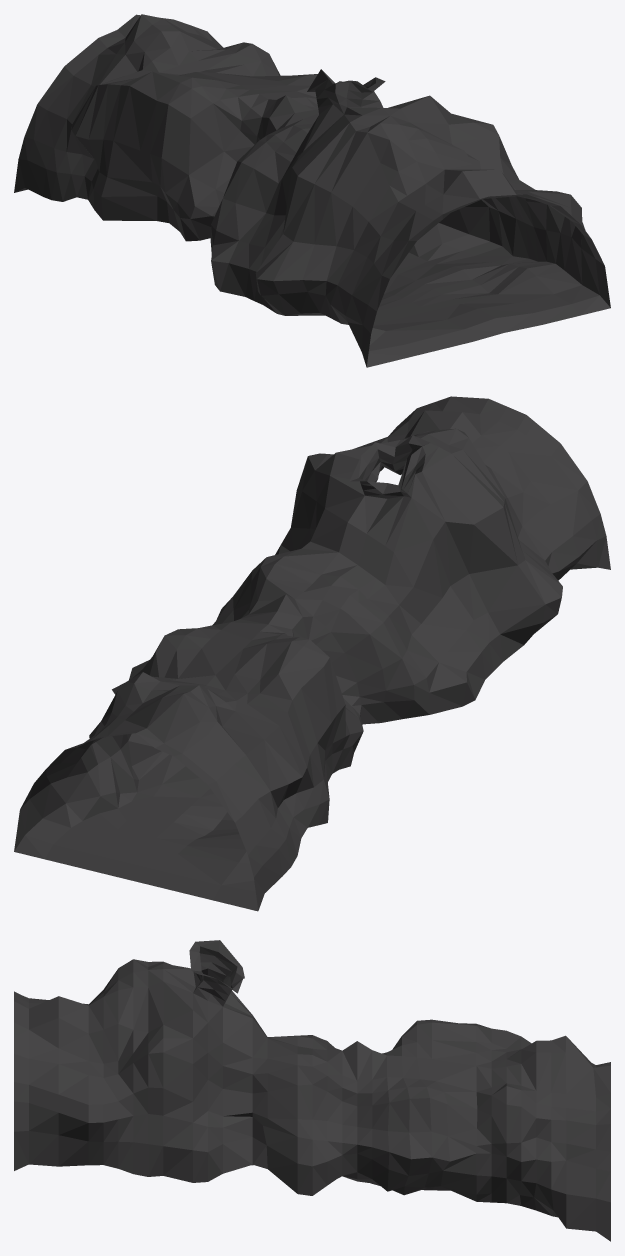
File: Cave_6B.fbx
3 views of the same model, one above another, from view 1: azimuth 30°, elevation 25°; view 2: azimuth 150°, elevation 25°; view 3: azimuth 270°, elevation 25° (orthographic). The views are drawn at different scales.
Parts seen in each view (by area): view 1: polySurface1223; view 2: polySurface1223; view 3: polySurface1223.
Boxes of the visible parts, <box> form: polySurface1223: <box>14,14,610,367</box>; polySurface1223: <box>14,396,610,911</box>; polySurface1223: <box>14,940,610,1241</box>.
Size of the model in its own units: 9.48 by 8.59 by 20.
